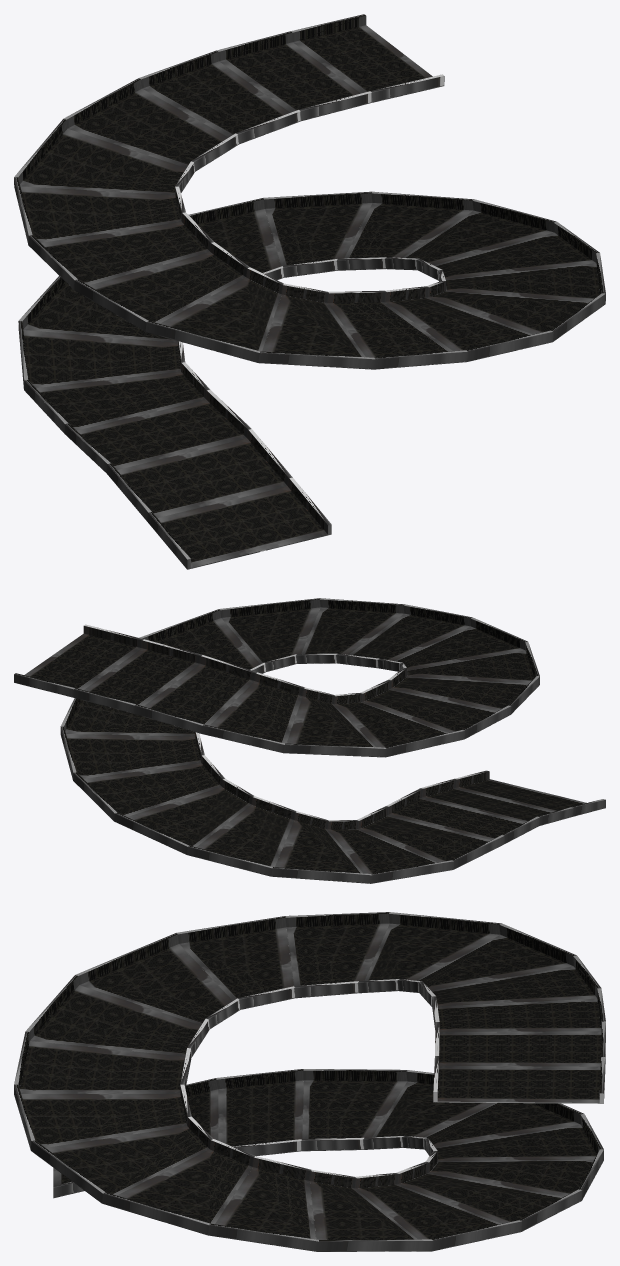
File: TrackScrew.fbx
The picture shows the model from 3 angles, top to bottom: view 1: azimuth 30°, elevation 25°; view 2: azimuth 150°, elevation 25°; view 3: azimuth 270°, elevation 25°; orthographic projection. The views are drawn at different scales.
Parts seen in each view (by area): view 1: Track; view 2: Track; view 3: Track.
Part boxes in pixels (x1,y1,x2,y2): Track: [14, 14, 605, 569]; Track: [14, 598, 605, 883]; Track: [14, 912, 605, 1251].
Bounding box in the file's own units: 13847 × 6618 × 13886.
1 material, 1 textured.
